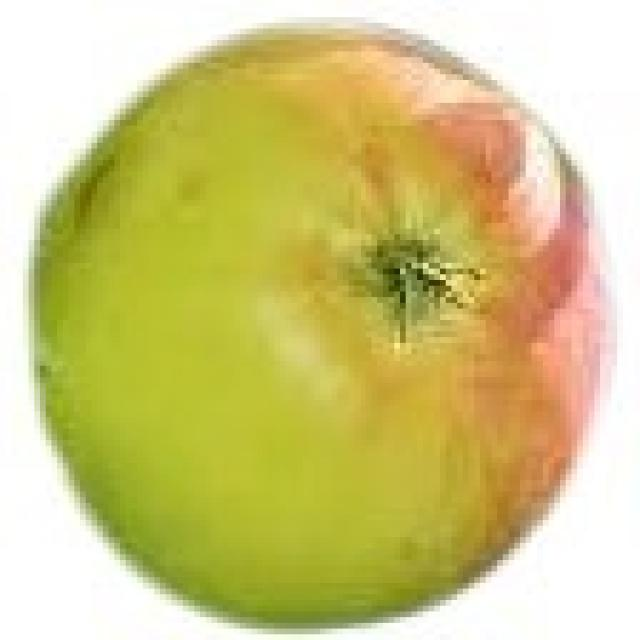75-_ripeness: (30, 15, 614, 627)
